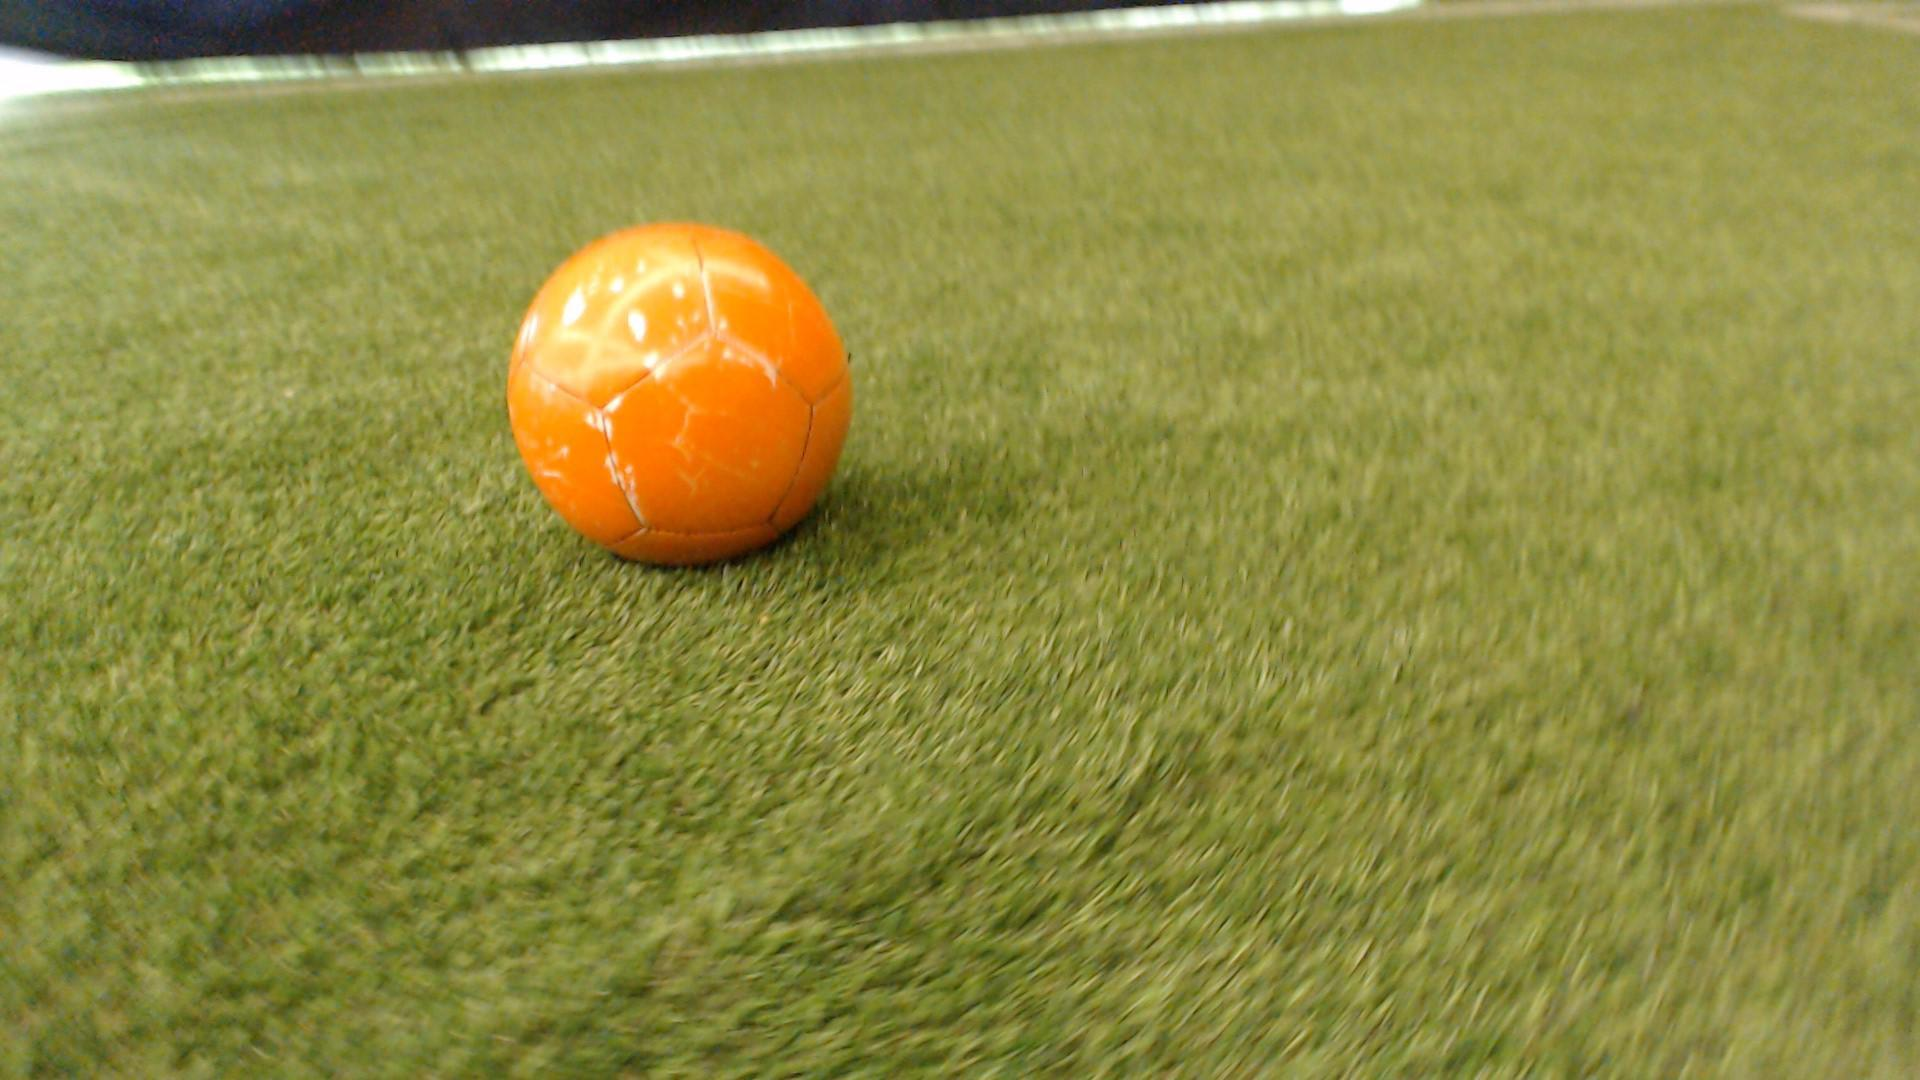bola: (469, 189, 894, 599)
